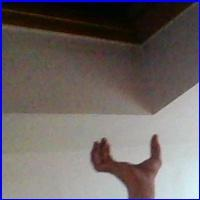space: (85, 132, 173, 185)
